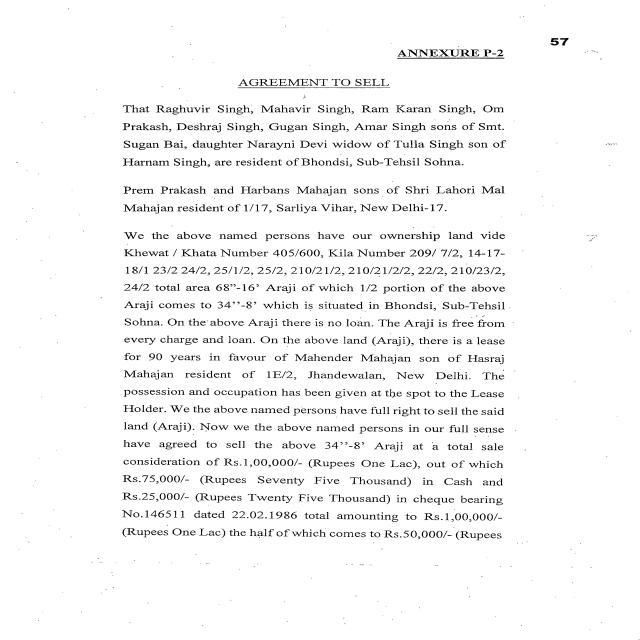page-number: (449, 0, 638, 47)
